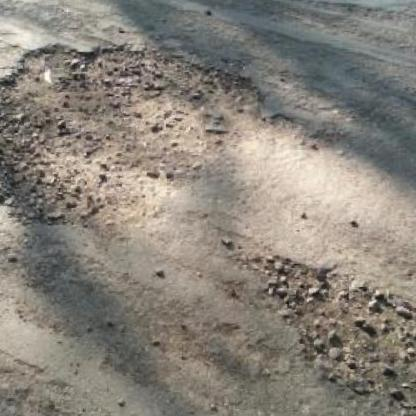pothole: (0, 34, 286, 235), (240, 248, 416, 416)
